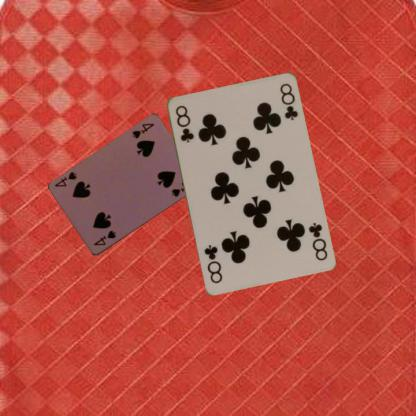4s: (91, 228, 117, 247), (130, 121, 156, 140)
8c: (172, 102, 195, 144), (306, 219, 328, 262)
